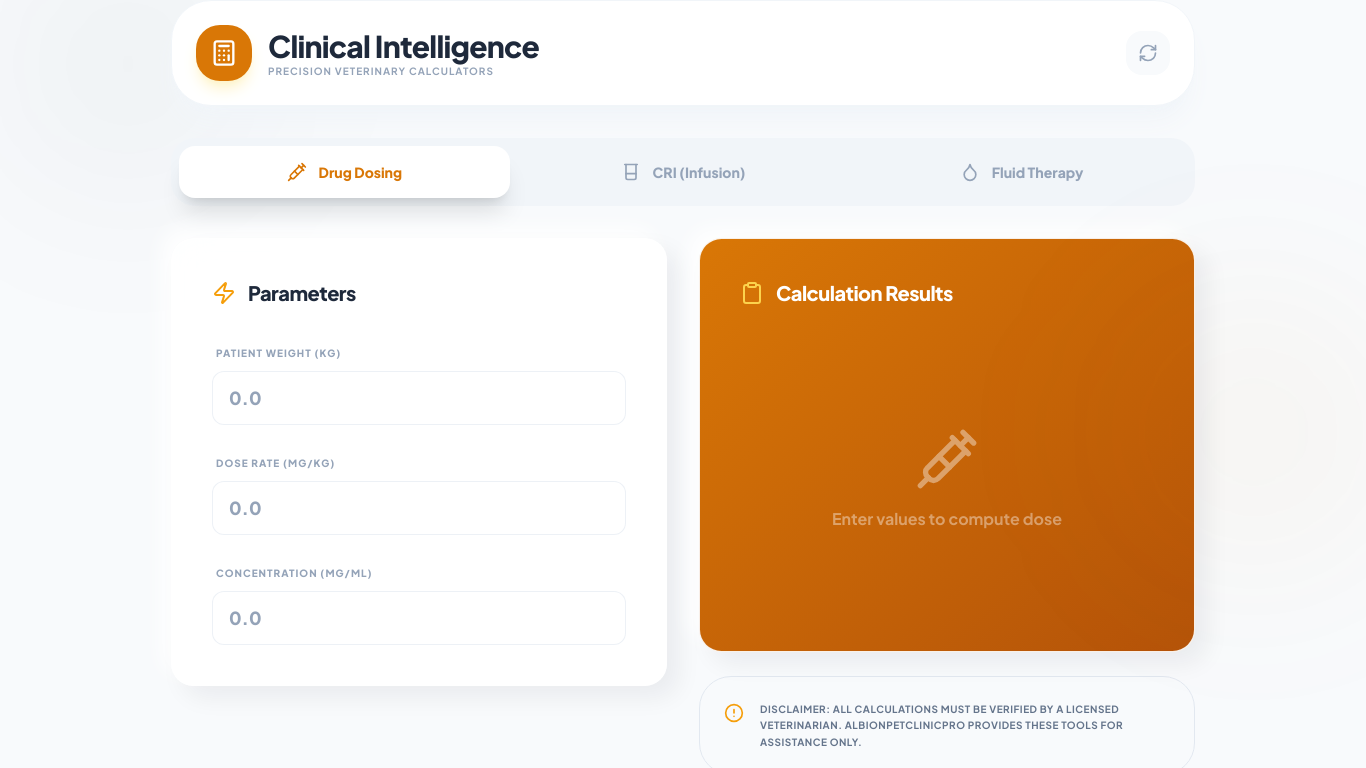
ClinicalCalculators Component › calculates drug dose in mg and ml correctly
The width and height of the screenshot is (1366, 768).
Type "10" into the number field with placeholder "0.0" below "Patient Weight (kg)" at (419, 398), box top-left (212, 371), bottom-right (626, 425)
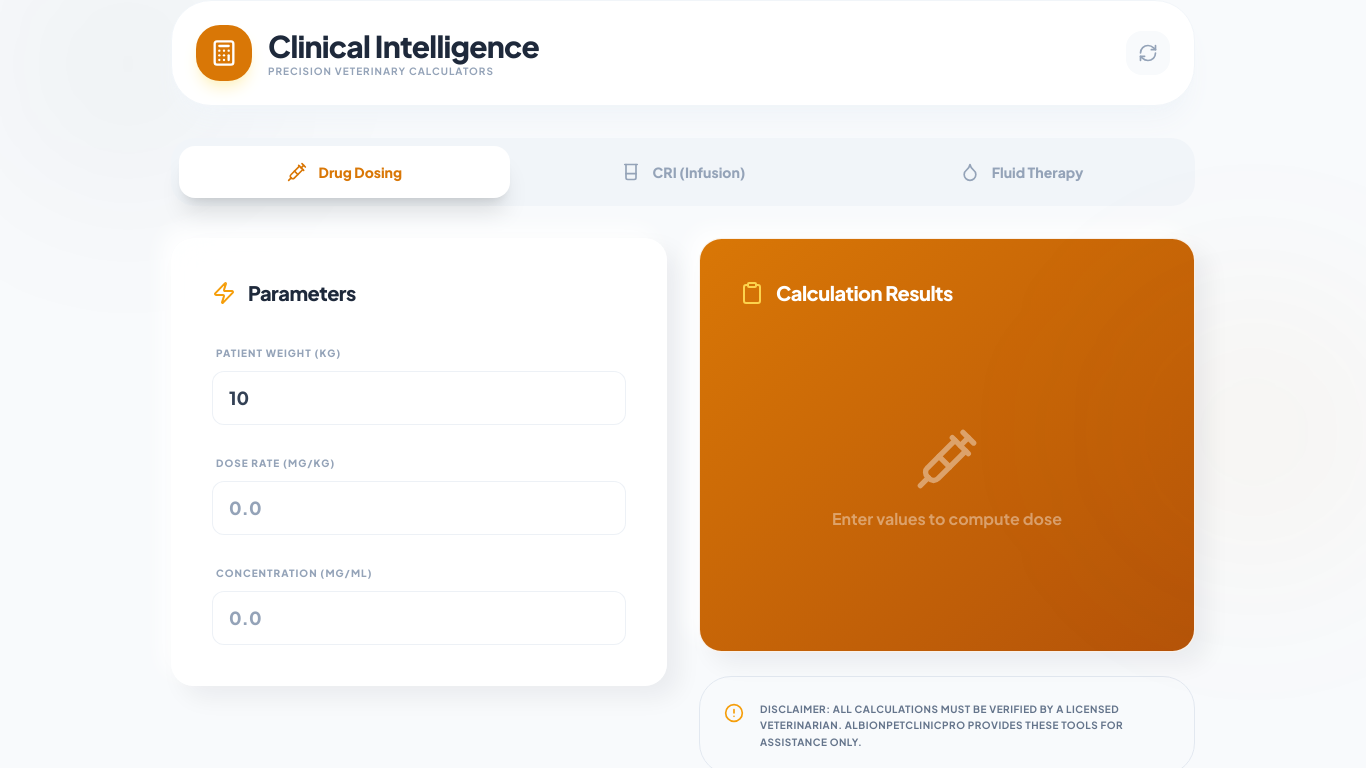
Type "5" into the number field with placeholder "0.0" below "Dose Rate (mg/kg)" at (419, 508), box top-left (212, 481), bottom-right (626, 535)
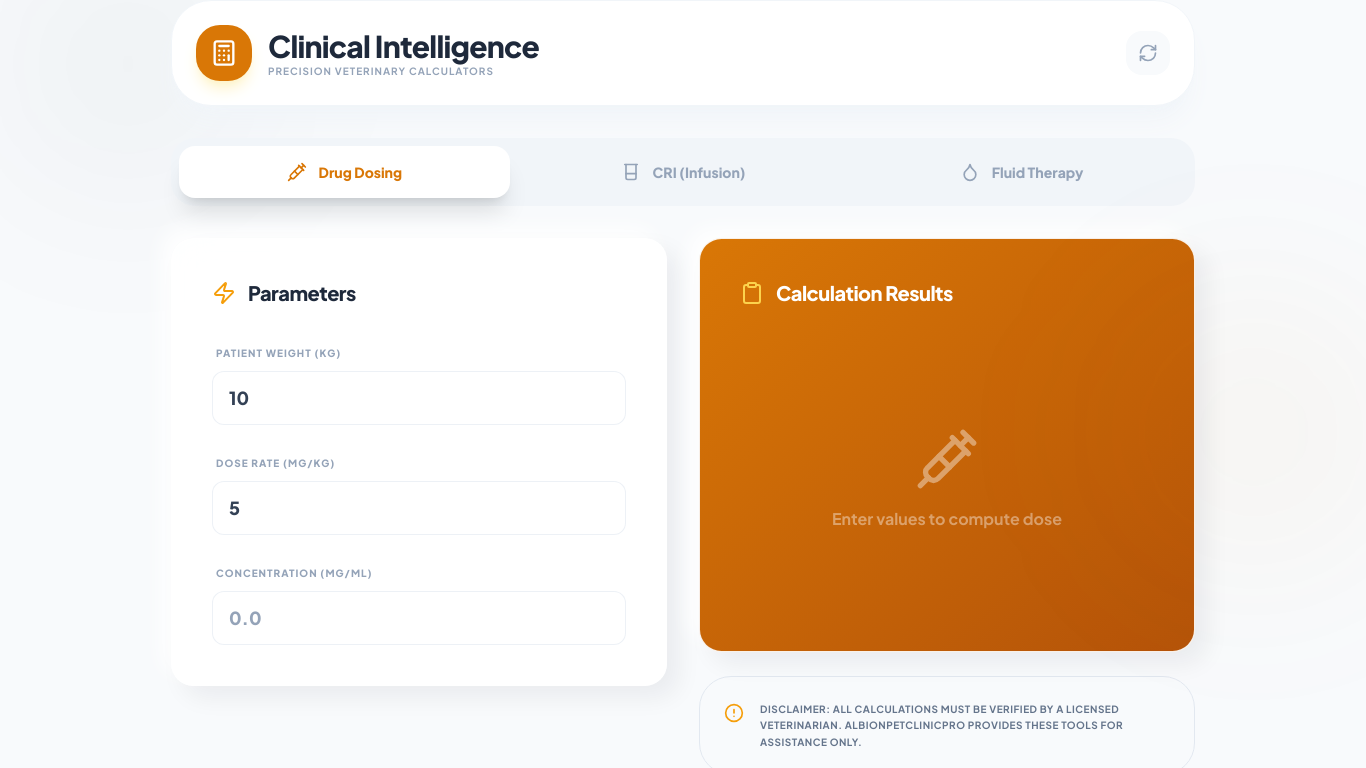
Type "25" into the number field with placeholder "0.0" at (419, 618), box top-left (212, 591), bottom-right (626, 645)
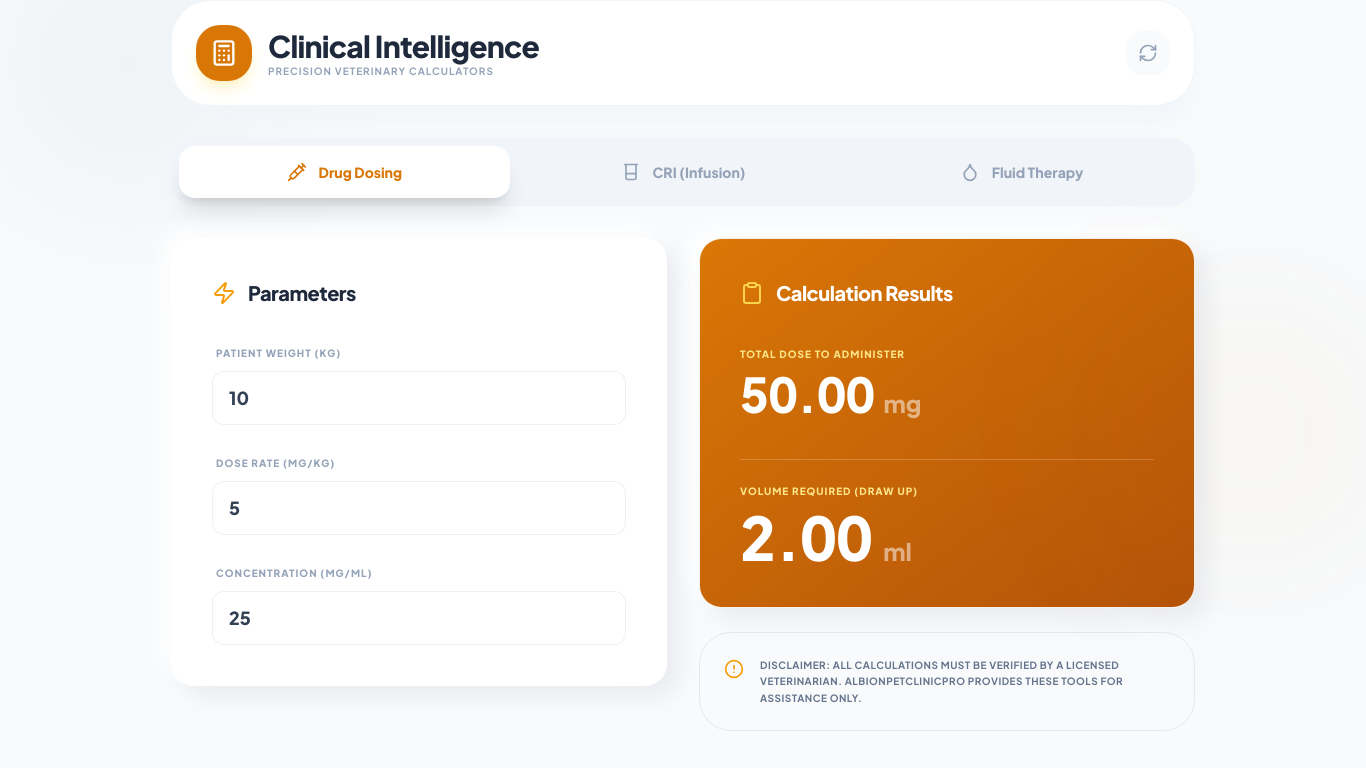
Expected: the text "50.00 mg" is shown, top-left (740, 363), bottom-right (921, 424)
Expected: the text "2.00 ml" is shown, top-left (740, 499), bottom-right (912, 574)
